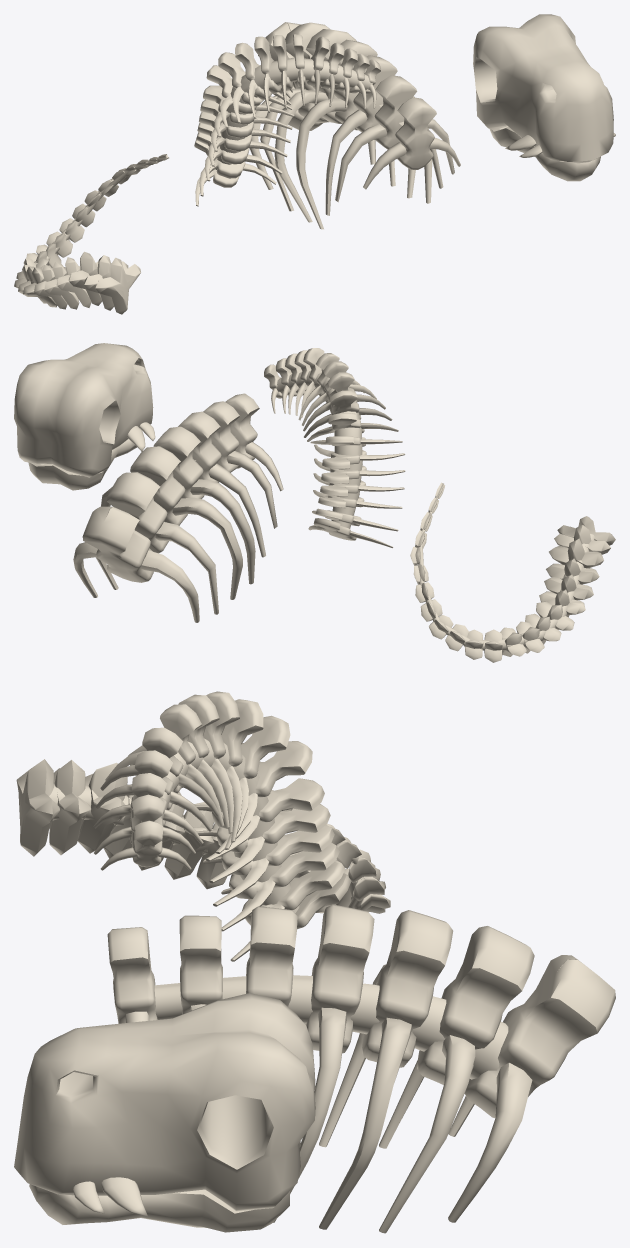
3 renders of one model, top to bottom at view 1: azimuth 30°, elevation 25°; view 2: azimuth 150°, elevation 25°; view 3: azimuth 270°, elevation 25°, orthographic. The views are drawn at different scales.
Visible parts, largest first — view 1: DinoRib, DinoSkullTop, DinoNeck, DinoTail, DinoSkullBottom; view 2: DinoRib, DinoSkullTop, DinoNeck, DinoTail, DinoSkullBottom; view 3: DinoRib, DinoSkullTop, DinoNeck, DinoTail, DinoSkullBottom.
Part boxes in pixels (left/top/right/bottom): DinoRib: left=249, top=22, right=460, bottom=229; DinoSkullTop: left=473, top=14, right=615, bottom=163; DinoNeck: left=194, top=34, right=380, bottom=206; DinoTail: left=14, top=154, right=168, bottom=314; DinoSkullBottom: left=489, top=126, right=600, bottom=181; DinoRib: left=73, top=393, right=283, bottom=622; DinoSkullTop: left=14, top=343, right=155, bottom=477; DinoNeck: left=264, top=348, right=405, bottom=548; DinoTail: left=410, top=482, right=615, bottom=662; DinoSkullBottom: left=28, top=439, right=136, bottom=490; DinoRib: left=107, top=904, right=615, bottom=1233; DinoSkullTop: left=14, top=993, right=315, bottom=1216; DinoNeck: left=93, top=691, right=351, bottom=961; DinoTail: left=16, top=759, right=390, bottom=913; DinoSkullBottom: left=29, top=1184, right=289, bottom=1232.
Size of the model in its own units: 395 by 157 by 216.
1 material, 1 textured.
